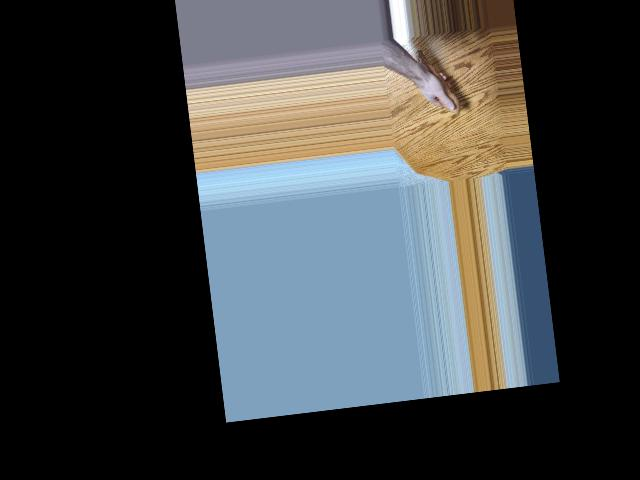sweet_potato: (413, 44, 459, 115)
